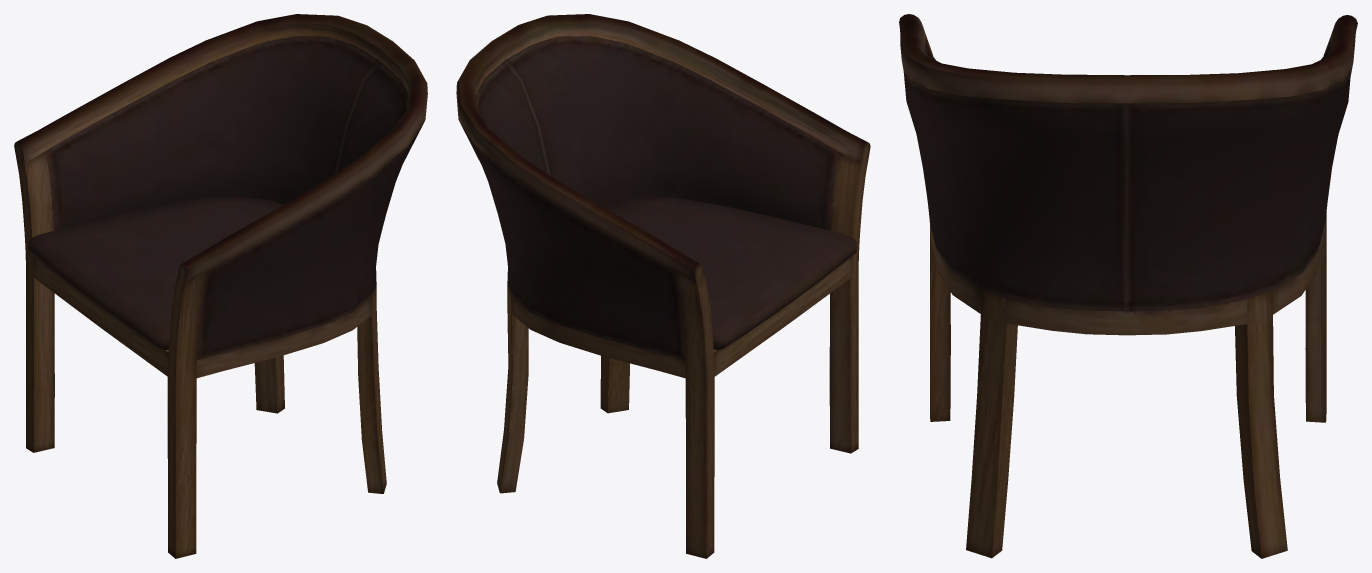
File: fauteuil-cuir.glb
The picture shows the model from 3 angles, left to right: view 1: azimuth 30°, elevation 25°; view 2: azimuth 150°, elevation 25°; view 3: azimuth 270°, elevation 25°; orthographic projection. The views are drawn at different scales.
Parts seen in each view (by area): view 1: re_chair; view 2: re_chair; view 3: re_chair.
Part boxes in pixels (<box>): re_chair: <box>14,14,427,558</box>; re_chair: <box>456,14,870,558</box>; re_chair: <box>899,14,1357,558</box>.
Bounding box in the file's own units: 0.6296 × 0.7702 × 0.6201.
1 material, 1 textured.
